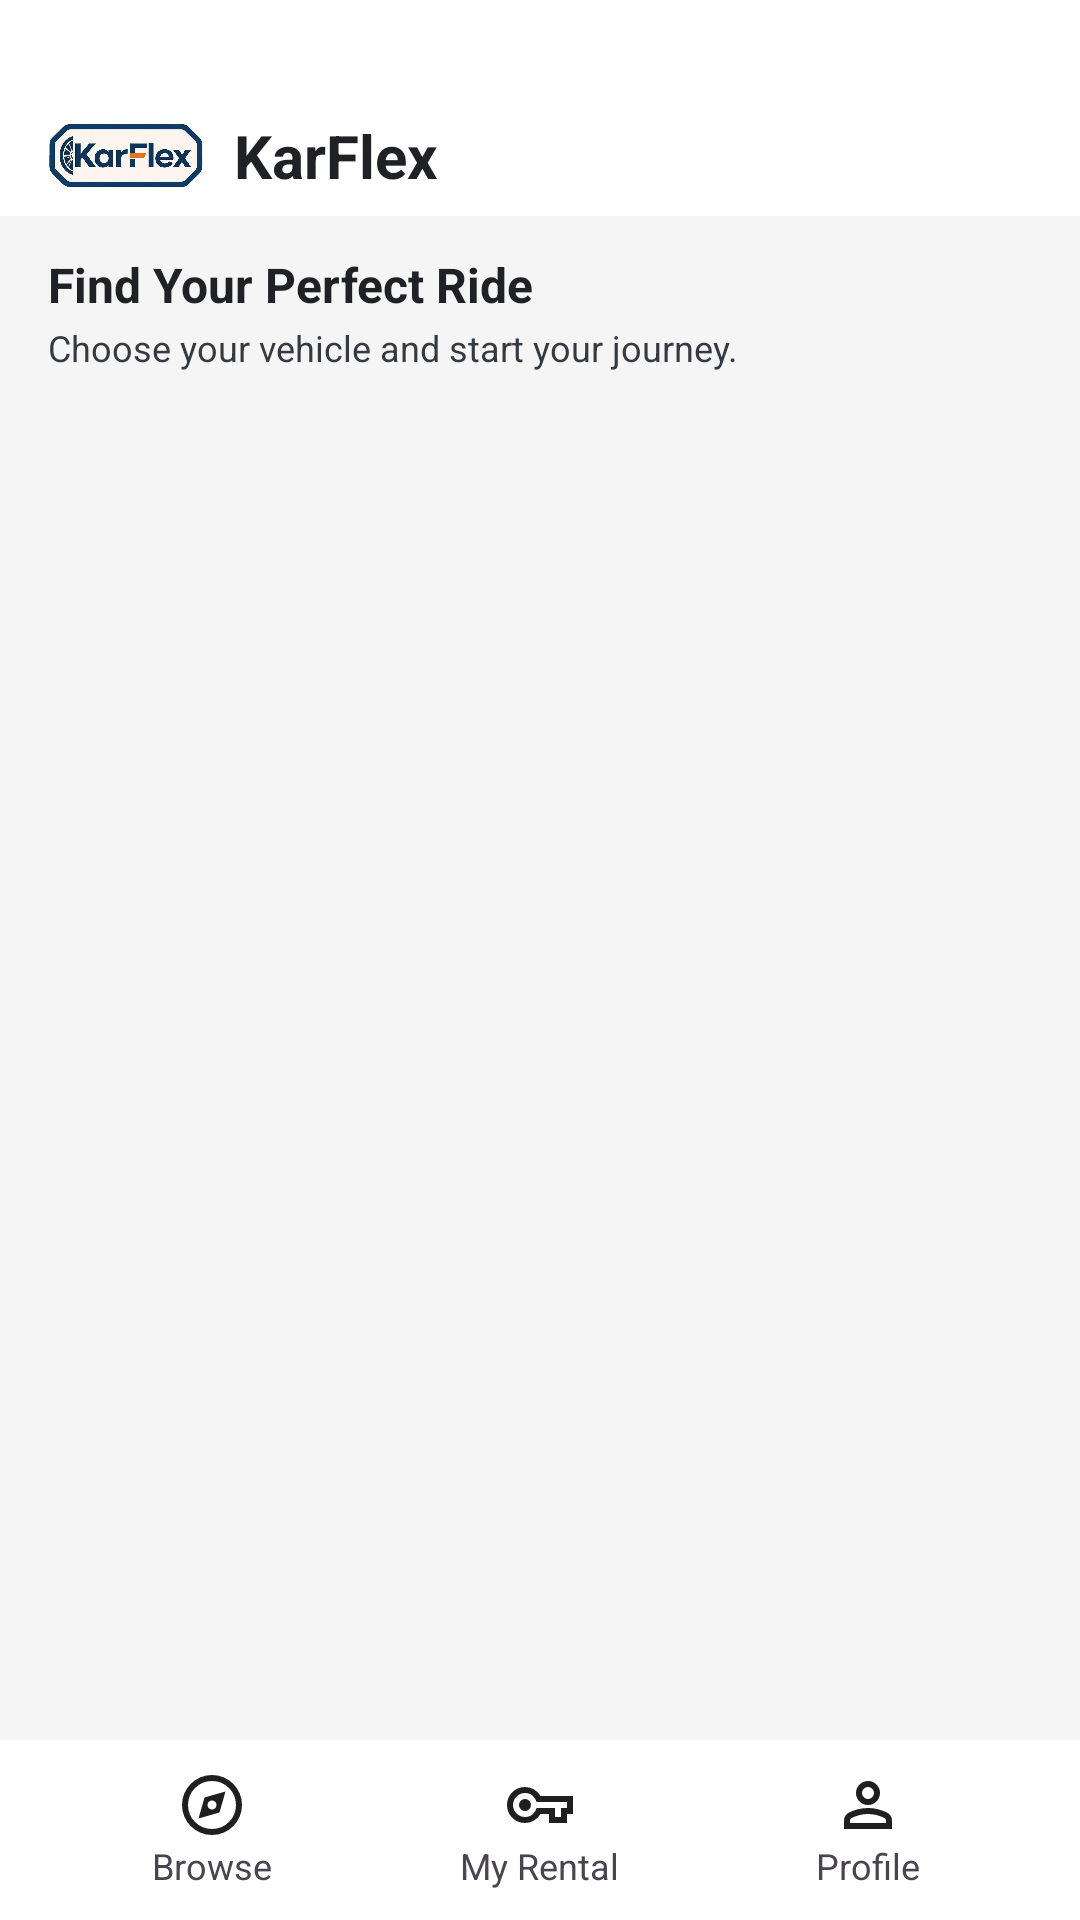

Icon click points for this 1080 x 1920 phone screenshot, format (x=x, y=y):
explore: (x=212, y=1805)
key: (x=540, y=1805)
person: (x=868, y=1805)
